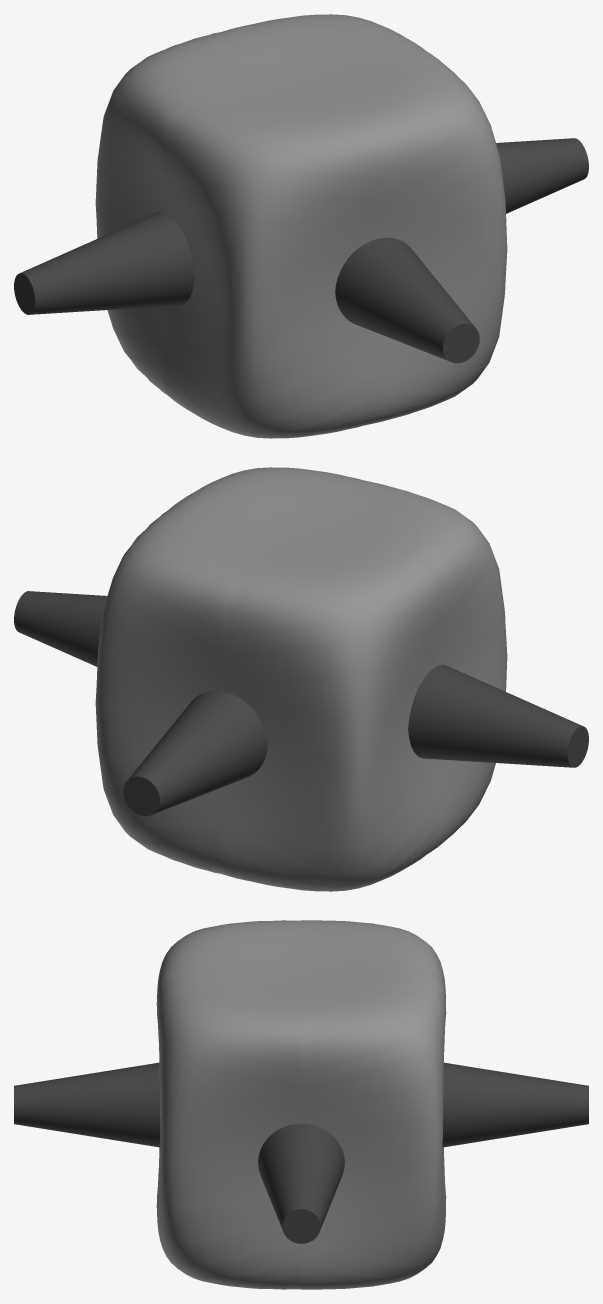
The picture shows the model from 3 angles, top to bottom: view 1: azimuth 30°, elevation 25°; view 2: azimuth 150°, elevation 25°; view 3: azimuth 270°, elevation 25°; orthographic projection. The views are drawn at different scales.
Parts seen in each view (by area): view 1: Body(Cubic)+Colour(6000000_6000000)+Pattern(Solid)+Smoo_c5c7, Arm002, Arm004, Arm001; view 2: Body(Cubic)+Colour(6000000_6000000)+Pattern(Solid)+Smoo_c5c7, Arm002, Arm003, Arm001; view 3: Body(Cubic)+Colour(6000000_6000000)+Pattern(Solid)+Smoo_c5c7, Arm004, Arm003, Arm001.
Boxes of the visible parts, left/top/right/bottom form: Body(Cubic)+Colour(6000000_6000000)+Pattern(Solid)+Smoo_c5c7: left=95, top=14, right=507, bottom=438; Arm002: left=14, top=212, right=194, bottom=314; Arm004: left=335, top=237, right=479, bottom=363; Arm001: left=496, top=138, right=588, bottom=213; Body(Cubic)+Colour(6000000_6000000)+Pattern(Solid)+Smoo_c5c7: left=95, top=467, right=507, bottom=891; Arm002: left=408, top=664, right=588, bottom=767; Arm003: left=123, top=690, right=267, bottom=816; Arm001: left=14, top=591, right=107, bottom=666; Body(Cubic)+Colour(6000000_6000000)+Pattern(Solid)+Smoo_c5c7: left=156, top=920, right=446, bottom=1289; Arm004: left=14, top=1062, right=160, bottom=1147; Arm003: left=442, top=1062, right=588, bottom=1147; Arm001: left=258, top=1123, right=344, bottom=1243.
Bounding box in the file's own units: 1.52 × 0.8001 × 1.52.
2 materials, 2 textured.
